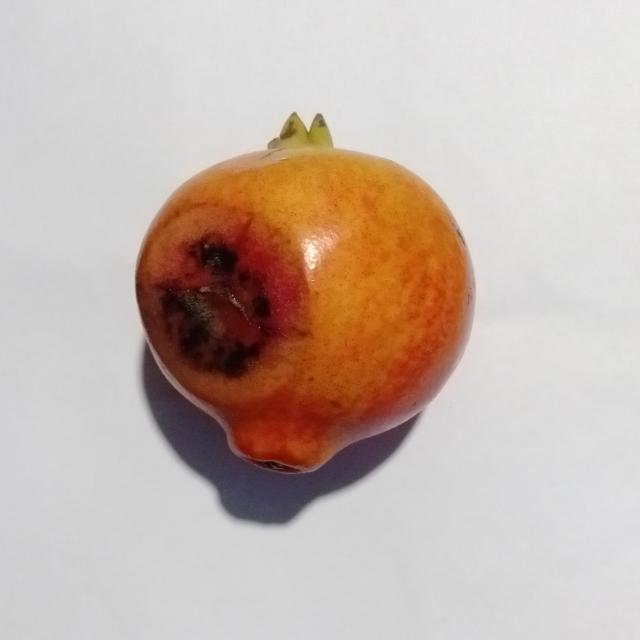Rotten: (134, 102, 481, 484)
